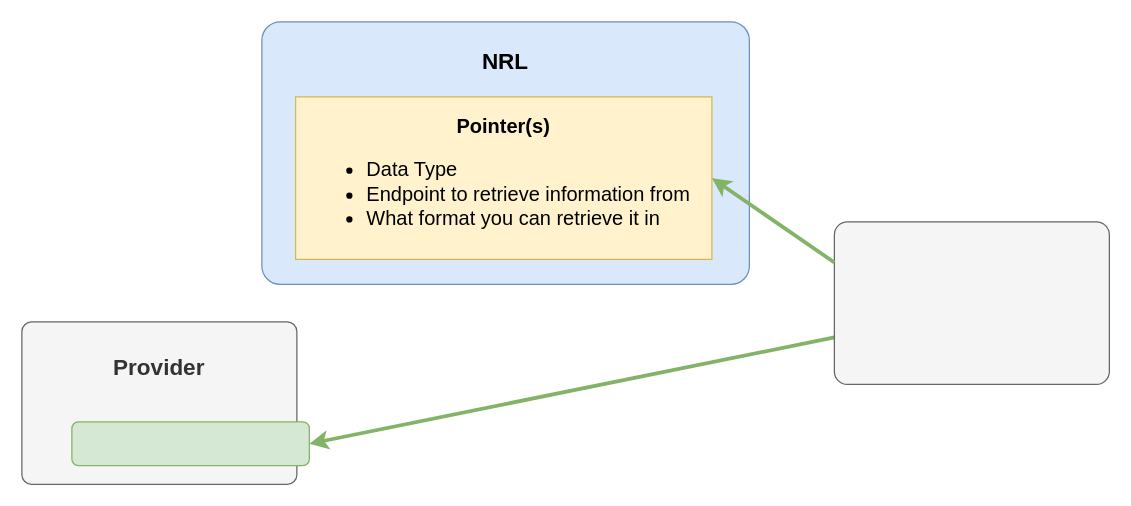
Image size: 1131x506. Some labels were removed from this diagram. The shapes that lost their labels are listed below. From the top down, each one's centre as x and y in pixels, then its label:
At (971,302): "Consumer".
At (190,443): "Information Endpoint".
